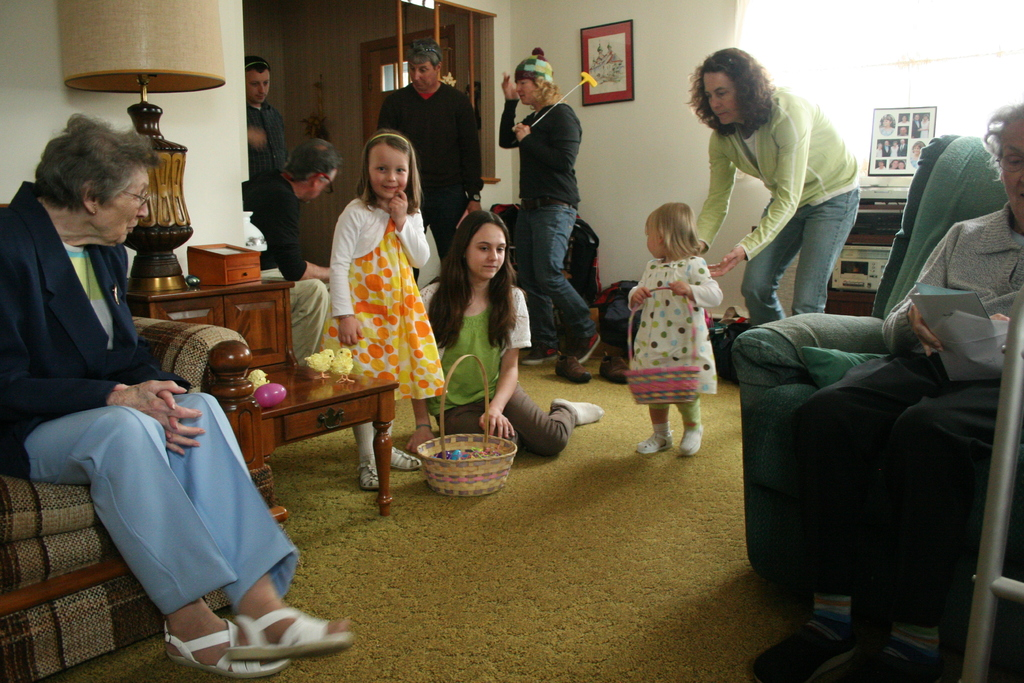Couch: (741, 185, 1011, 643)
